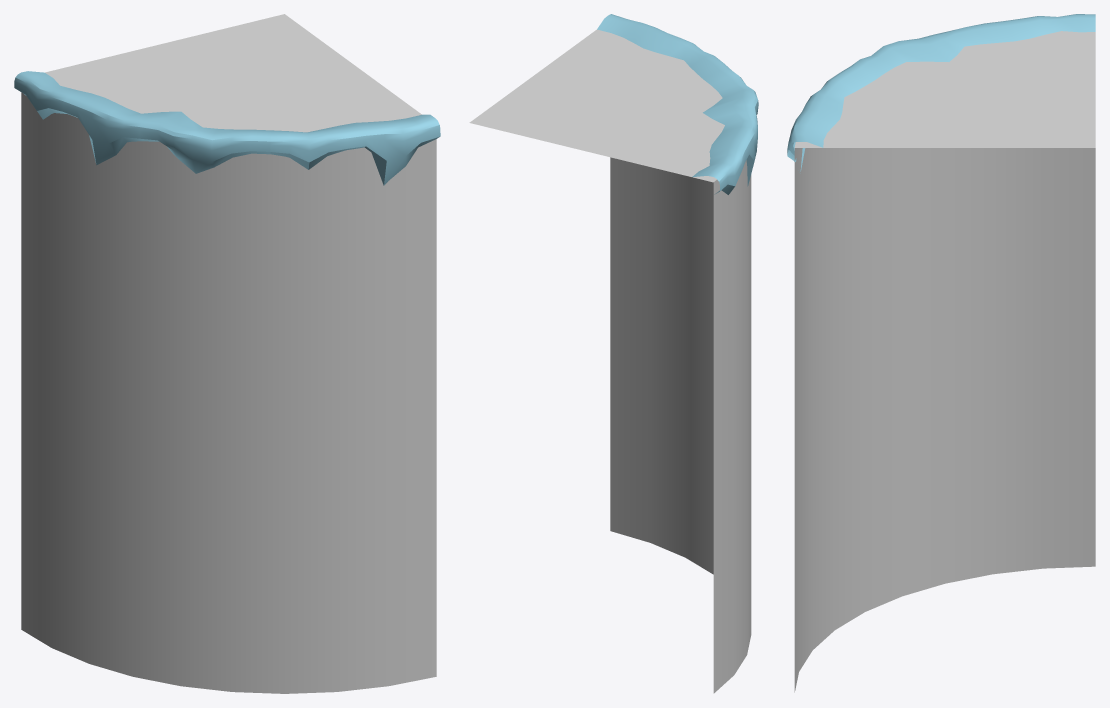
Rendered from Wall_Curve_Outside_Snow.fbx.
The picture shows the model from 3 angles, left to right: view 1: azimuth 30°, elevation 25°; view 2: azimuth 150°, elevation 25°; view 3: azimuth 270°, elevation 25°; orthographic projection. The views are drawn at different scales.
Visible parts, largest first — view 1: Wall_Curve_Outside_Snow; view 2: Wall_Curve_Outside_Snow; view 3: Wall_Curve_Outside_Snow.
Boxes of the visible parts, x1,y1,x2,y2 form: Wall_Curve_Outside_Snow: [14, 14, 440, 693]; Wall_Curve_Outside_Snow: [469, 14, 758, 693]; Wall_Curve_Outside_Snow: [787, 14, 1095, 692].
Size of the model in its own units: 341 by 674 by 341.
